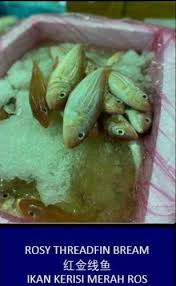Ikan Kerisi: (65, 58, 105, 157), (44, 36, 92, 111), (107, 58, 152, 111)
